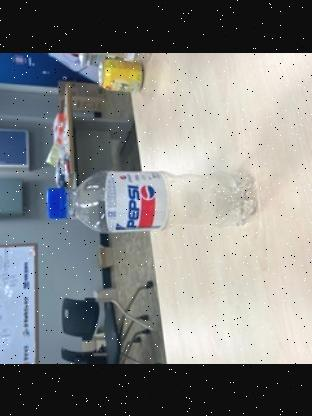Can: (90, 57, 150, 93)
Plastic Bottle: (41, 165, 264, 235)
